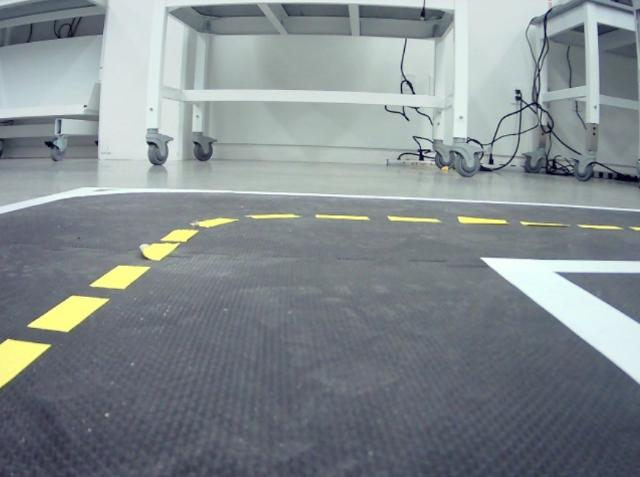whiteline: (483, 259, 640, 387), (89, 186, 640, 212), (1, 185, 91, 217), (481, 257, 640, 272)
yellowline: (0, 219, 238, 390), (248, 212, 640, 230)
